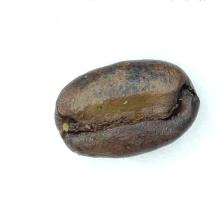NG: (60, 62, 192, 138)
